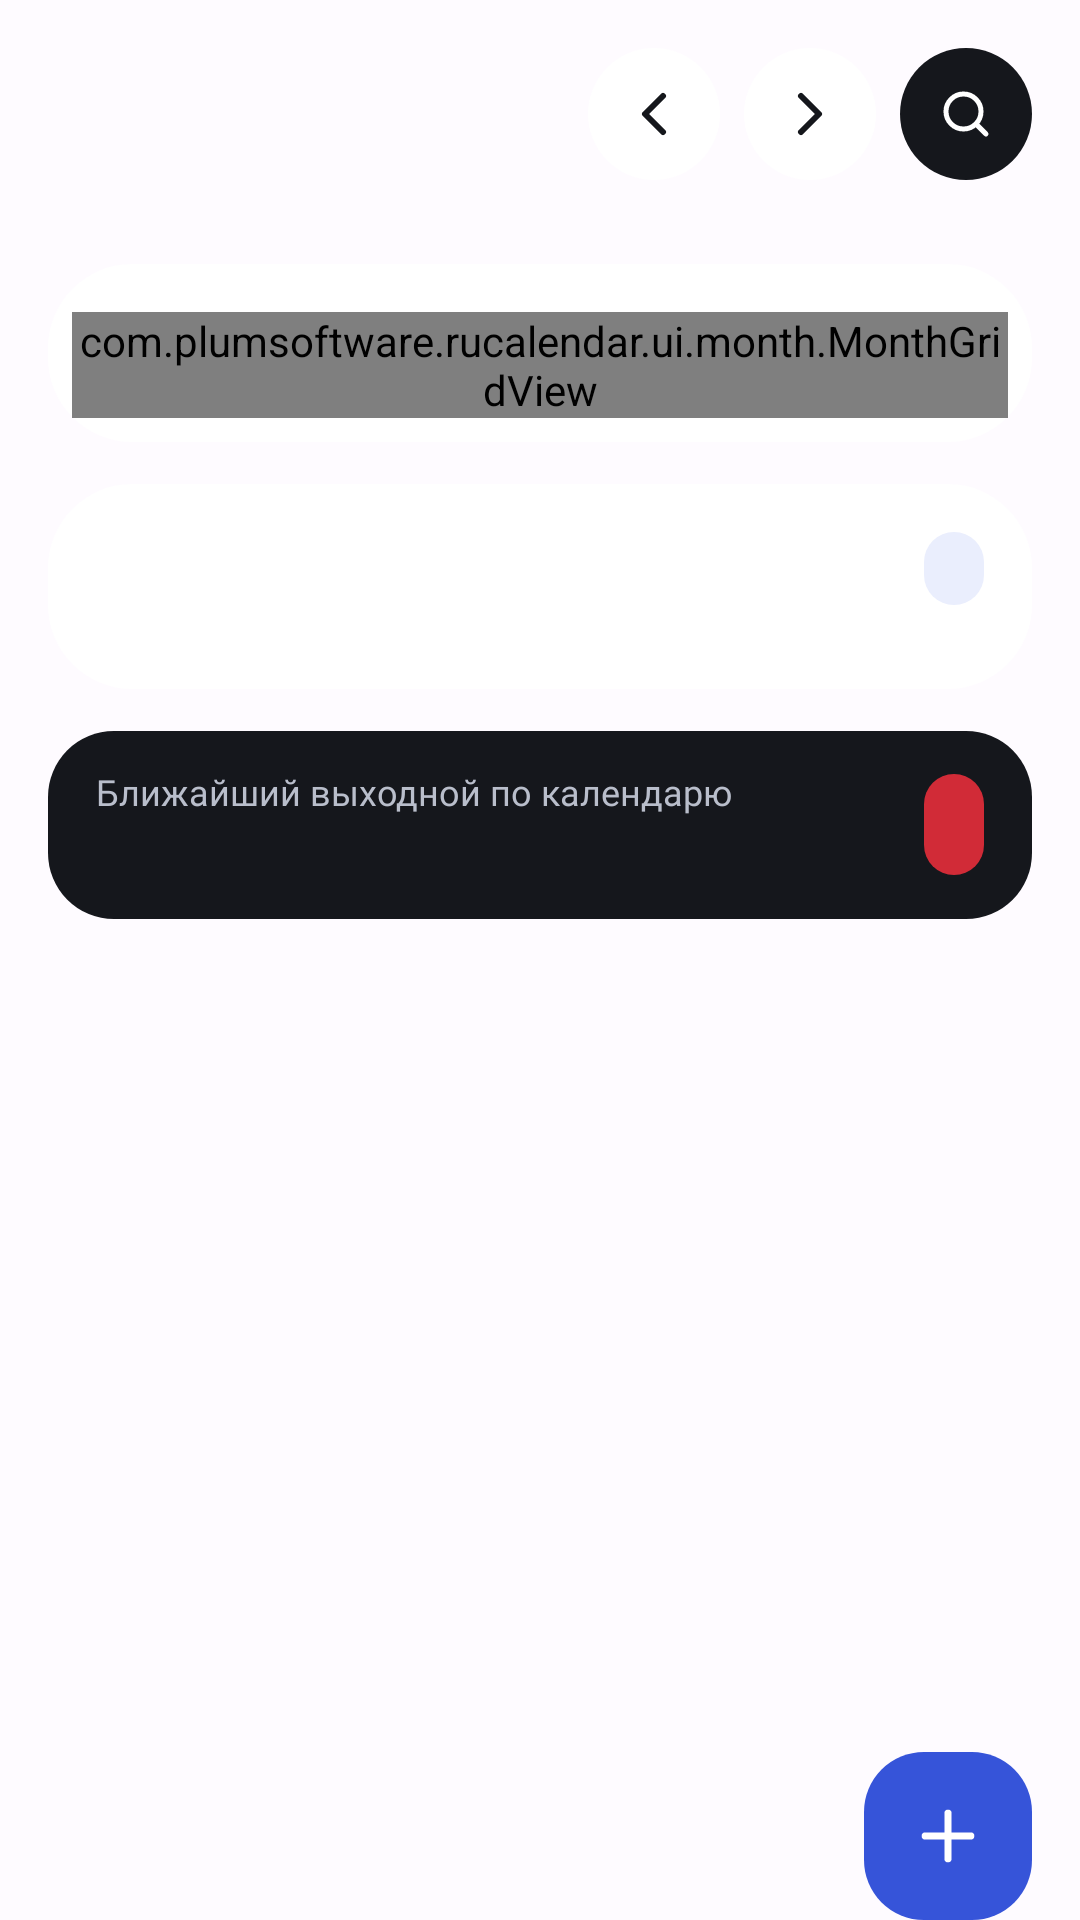

Screen size 1080px x 1920px. Icon name, then its center in pixels as (x,y):
Добавить своё событие: (948,1836)
Поиск праздника: (966,114)
Предыдущий месяц: (654,114)
Следующий месяц: (810,114)
